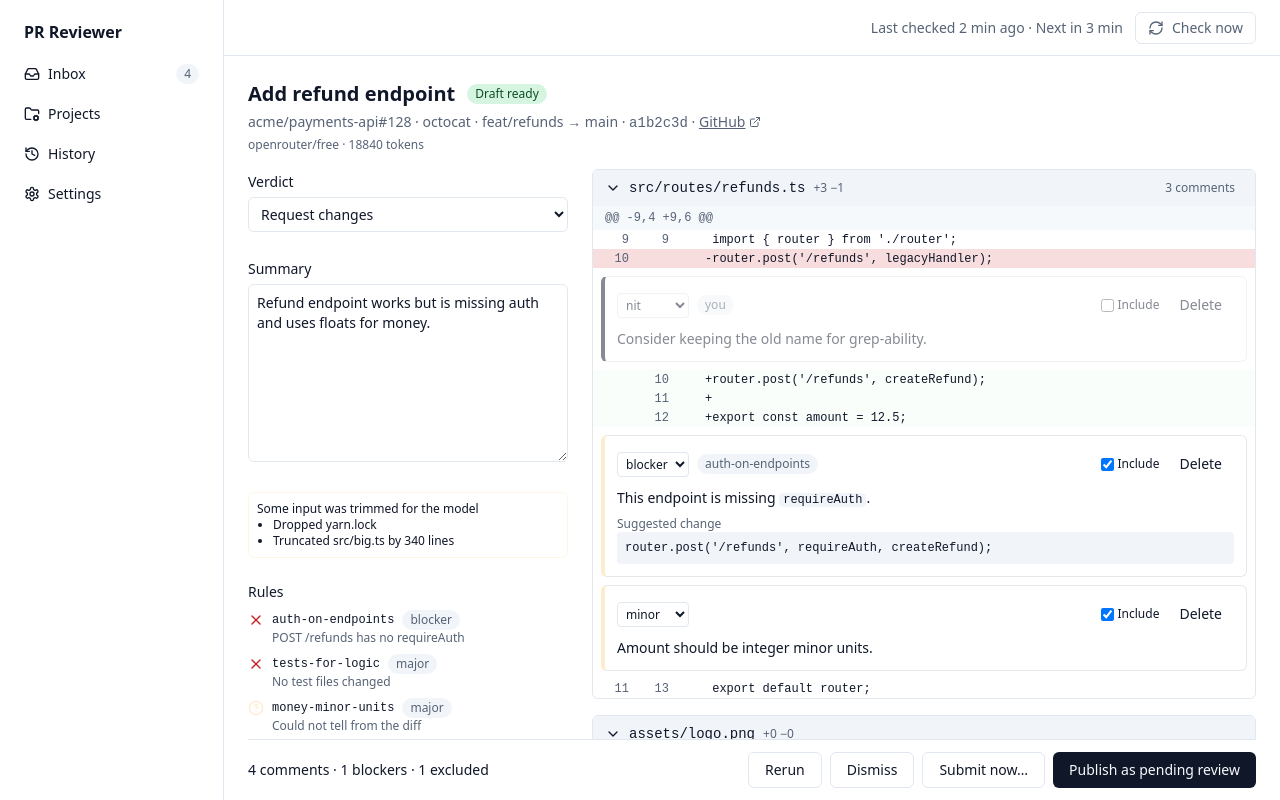
Test: Publish flow › offers to publish anyway when the head moved, then forces
The width and height of the screenshot is (1280, 800).
Click the button "Publish as pending review".
click(1155, 770)  # box x1=1053 y1=752 x2=1256 y2=788
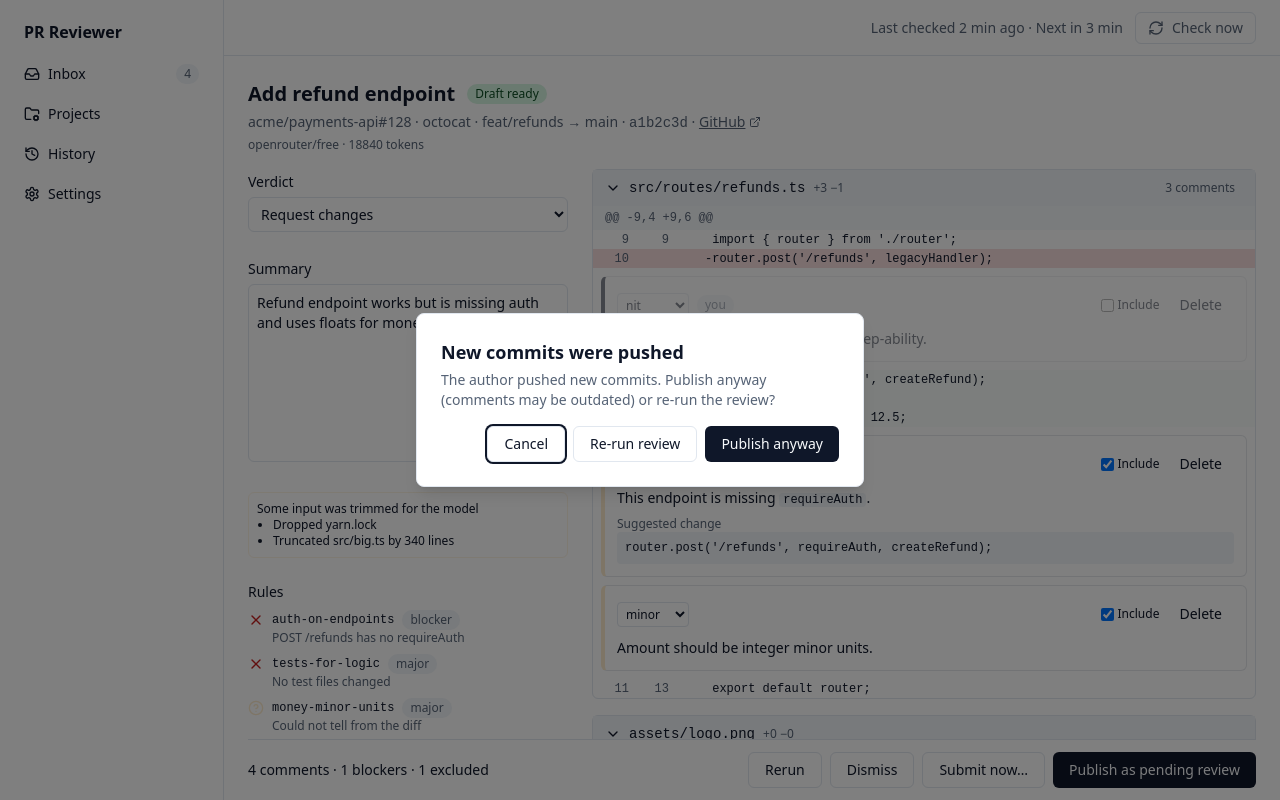
Expected: the dialog shows "pushed new commits", x1=441 y1=370 x2=775 y2=409
Click the button "Publish anyway".
click(772, 444)  # box x1=705 y1=426 x2=839 y2=462
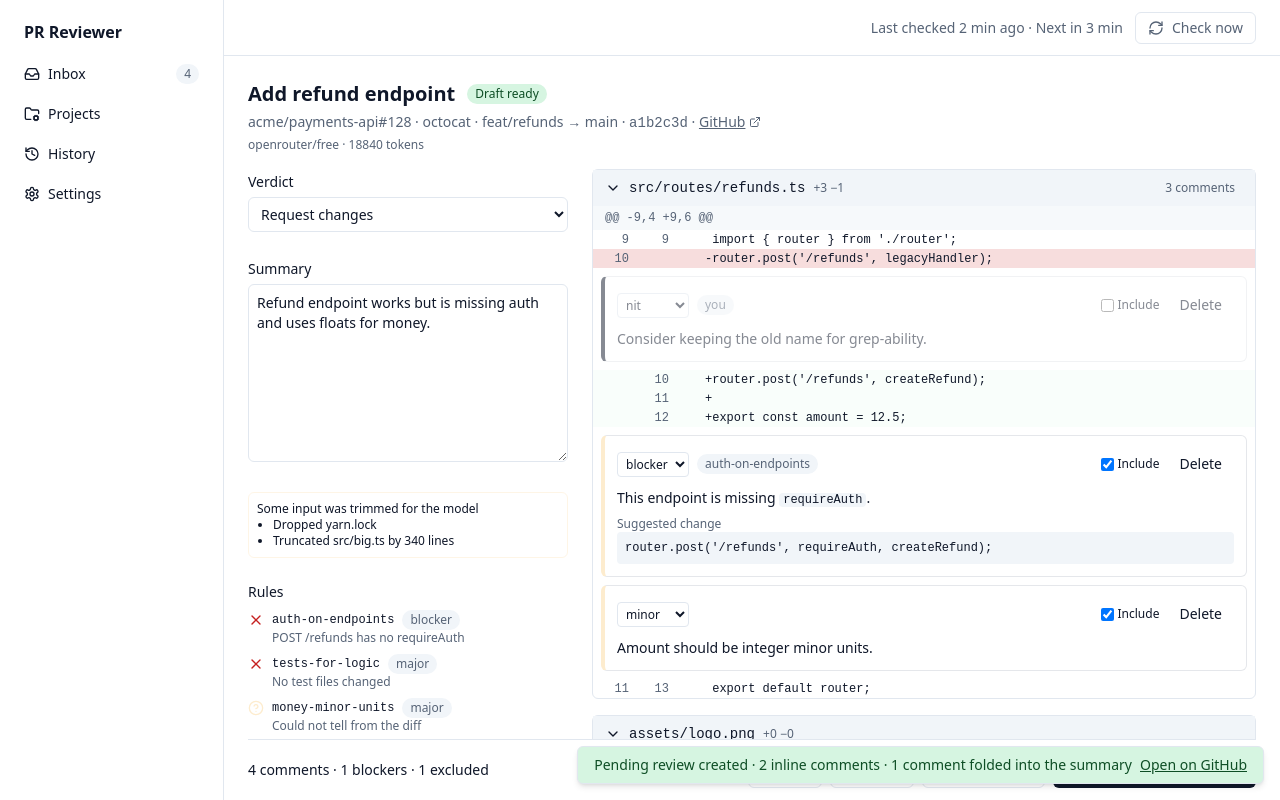
Expected: the dialog is gone
